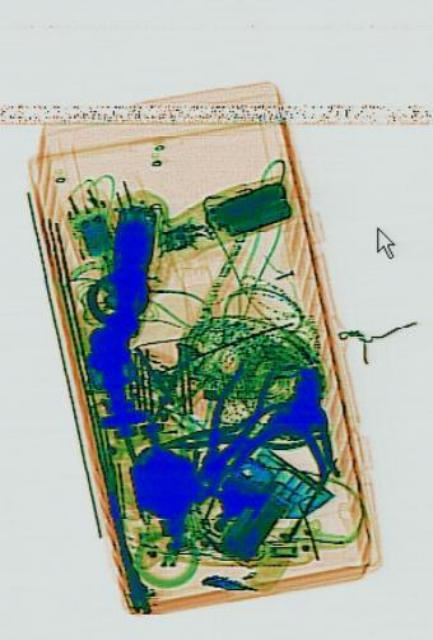Pliers: (182, 347, 273, 499), (156, 392, 323, 472)
